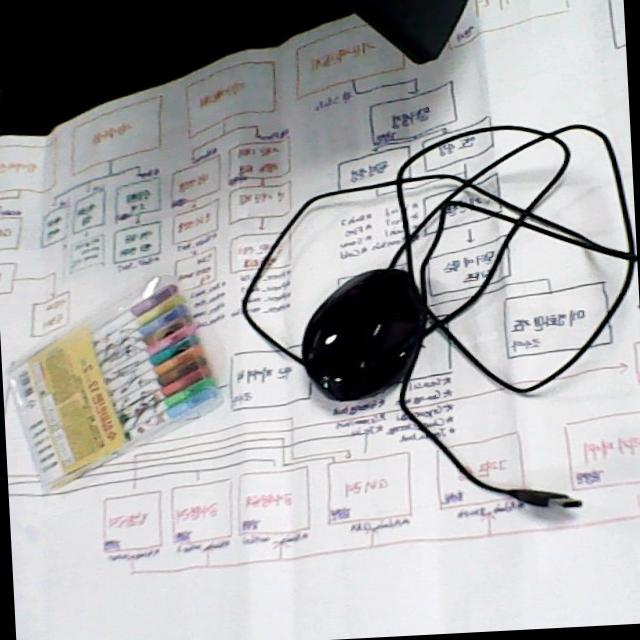mouse: (297, 262, 431, 411)
signpen: (3, 266, 227, 499)
